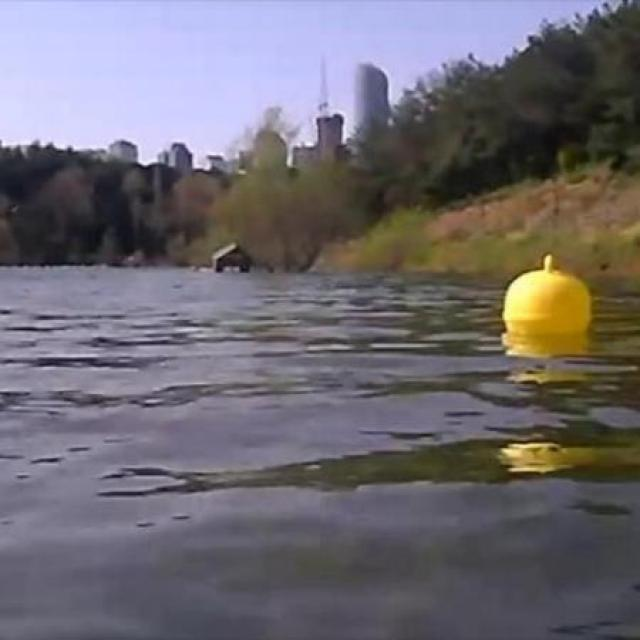buoy: (505, 256, 590, 336)
